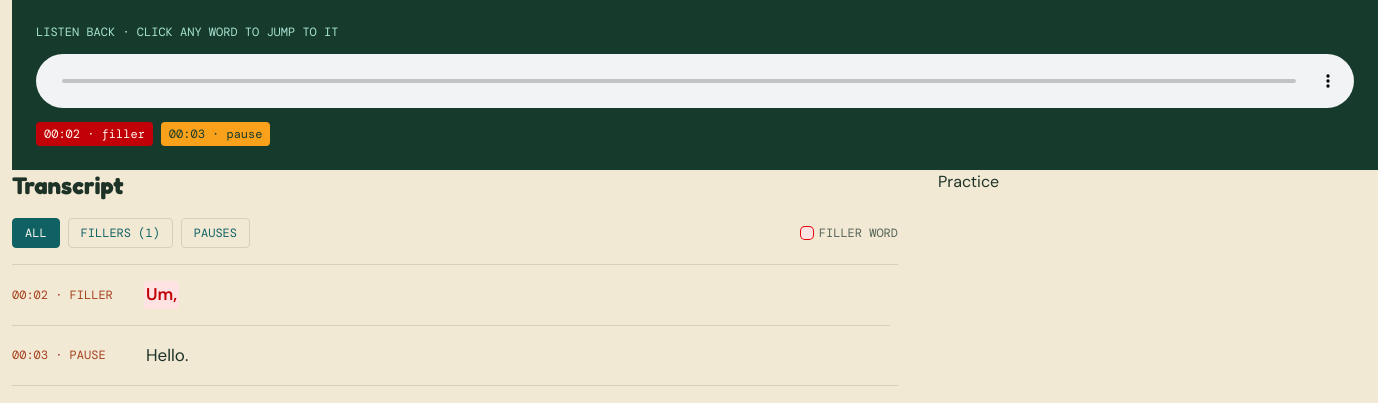
Test: preserved MVP features › seeks from transcript words, filters fillers/pauses, and reports missing demo audio
This screenshot has width=1378, height=403.
Later steps or results of the test are not shown.
What coordinates should you click on to do the following:
click the button "Um,"
I would click on:
 (162, 295)
Its box is [144,281,179,309].
What coordinates should you click on to do the following:
click the button "FILLERS (1)"
I would click on:
 (120, 233)
Its box is [68,218,173,248].
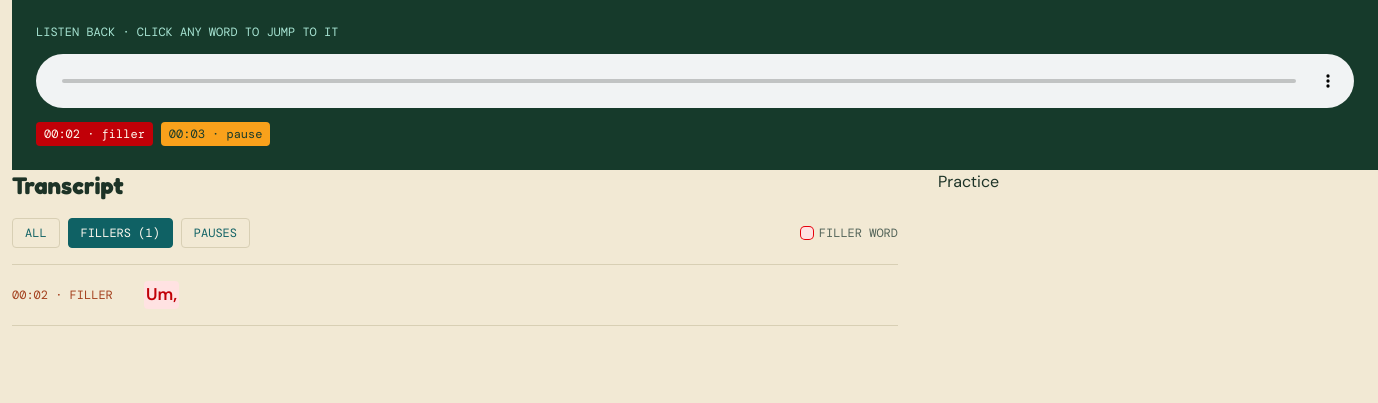
Result: the button "Hello." is gone
What coordinates should you click on to do the following:
click the button "PAUSES"
I would click on:
 (215, 233)
Its box is [181,218,250,248].
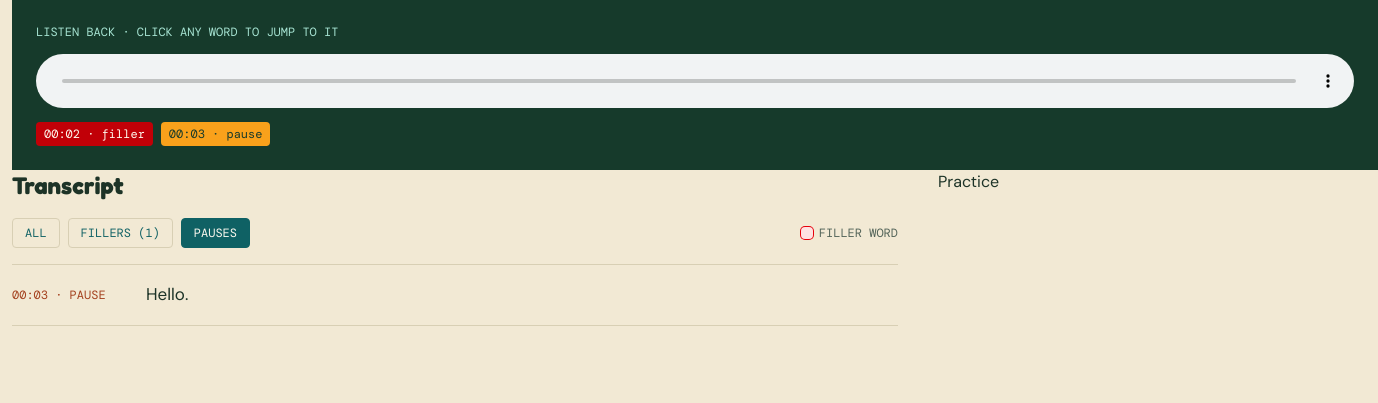
Result: the button "Hello." is shown at [144,281,190,309]
